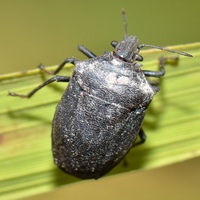insect: (107, 43, 199, 174), (0, 74, 79, 199)
